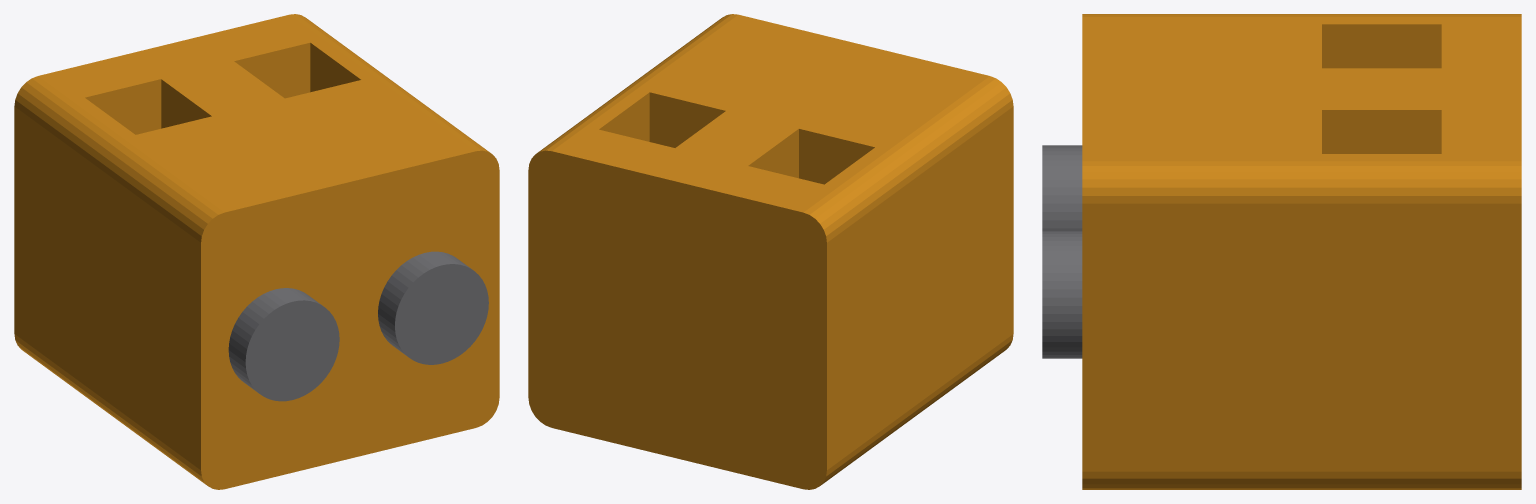
The model's file is ref_borne_2p.glb.
The picture shows the model from 3 angles, left to right: view 1: azimuth 30°, elevation 25°; view 2: azimuth 150°, elevation 25°; view 3: azimuth 270°, elevation 25°; orthographic projection. The views are drawn at different scales.
Parts seen in each view (by area): view 1: cuerpo, tornillos; view 2: cuerpo; view 3: cuerpo, tornillos.
Boxes of the visible parts, x1,y1,x2,y2 form: cuerpo: [14, 14, 499, 489]; tornillos: [228, 251, 488, 401]; cuerpo: [528, 14, 1013, 489]; cuerpo: [1082, 14, 1521, 489]; tornillos: [1042, 145, 1082, 358].
Bounding box in the file's own units: 10.16 × 9 × 12.
